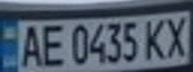0: (66, 21, 90, 66)
3: (103, 19, 124, 64)
4: (87, 20, 109, 64)
5: (121, 18, 142, 62)
A: (15, 21, 45, 70)
E: (36, 21, 66, 69)
K: (139, 16, 169, 61)
X: (163, 12, 193, 59)
